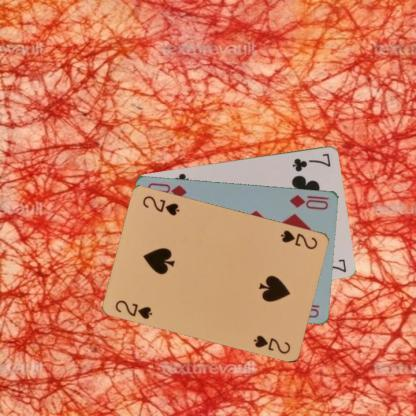10d: (287, 192, 331, 210)
2s: (112, 297, 154, 320), (278, 228, 319, 250)
7c: (290, 150, 332, 173)
